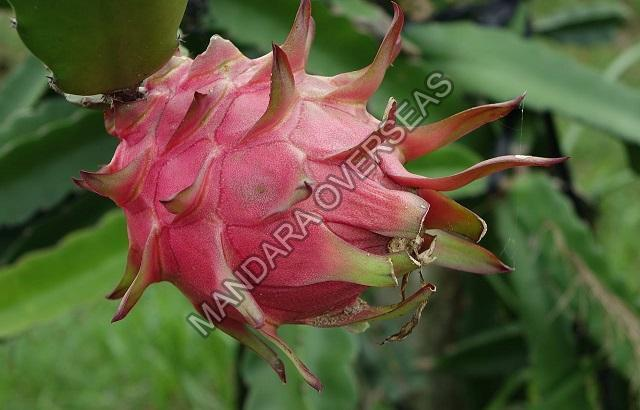dragon-fruit: (116, 56, 418, 327)
